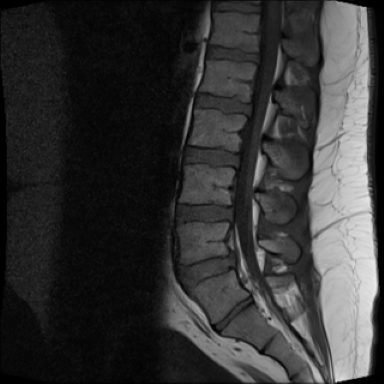Degenerative Disc Disease (DDD): (203, 289, 263, 342)
Lumbar Disc Bulge (LDB): (165, 244, 246, 295)
Normal IVD: (191, 85, 255, 118), (176, 141, 243, 172), (170, 199, 236, 227), (202, 40, 262, 65), (211, 0, 265, 15)
